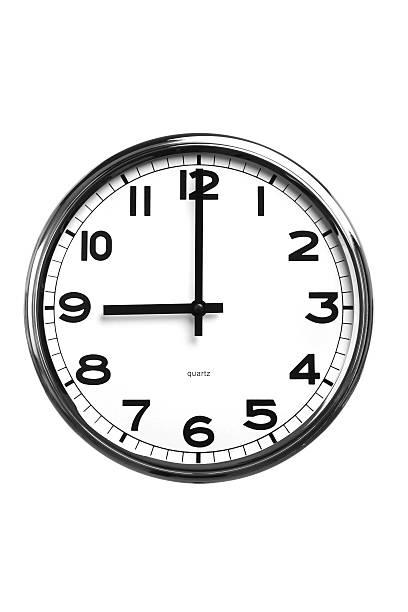clock: (29, 124, 377, 490)
